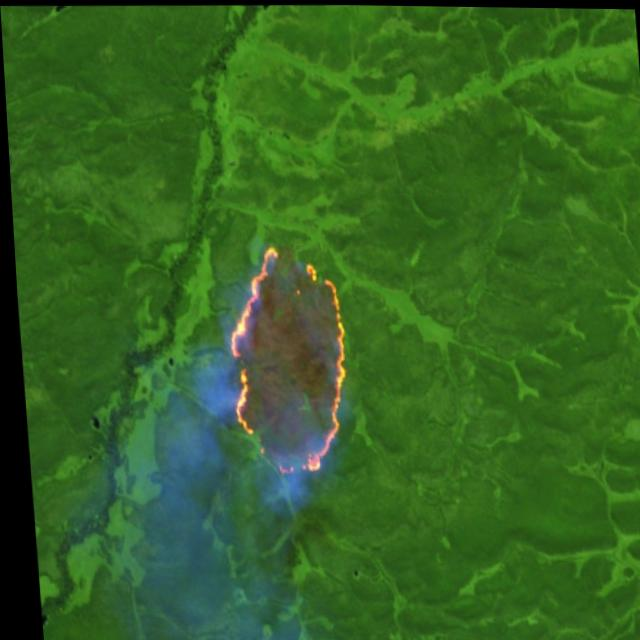fire: (214, 237, 355, 484)
